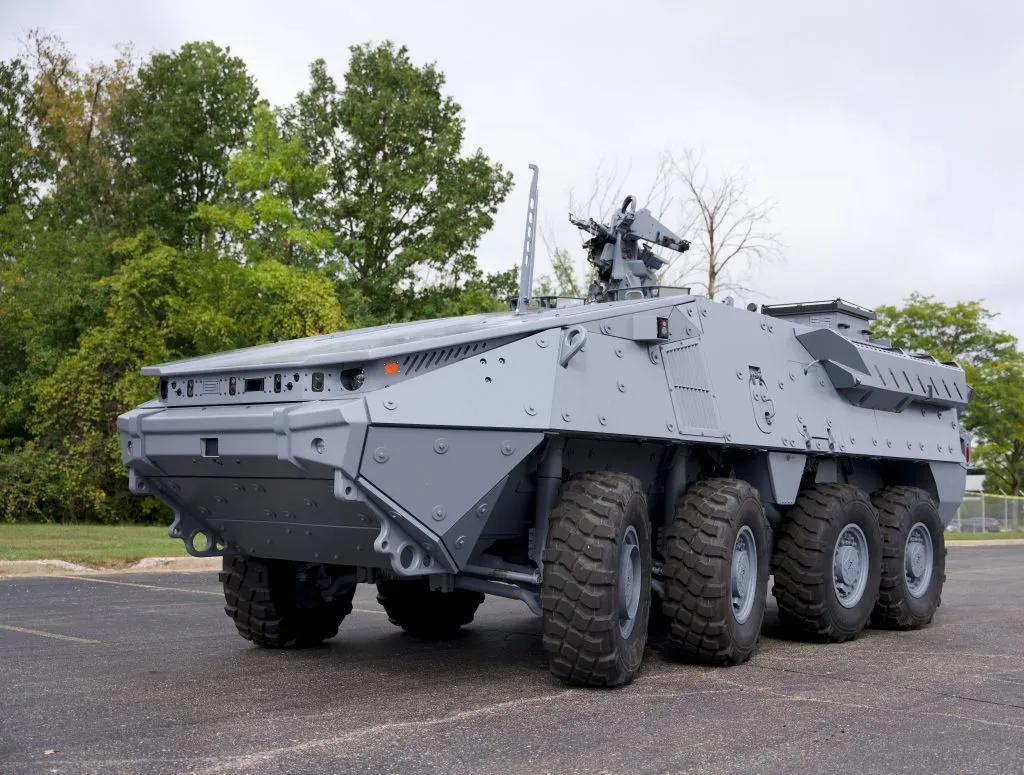MIL_IFV: (114, 197, 975, 691)
